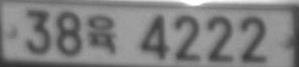2: (174, 15, 200, 61), (241, 16, 266, 62), (206, 17, 232, 61)
3: (26, 9, 49, 54)
4: (140, 14, 171, 59)
8: (56, 11, 81, 55)
육: (86, 12, 117, 53)
